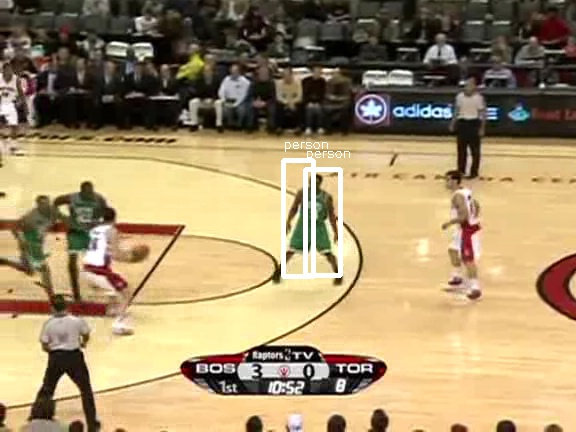person: (298, 183, 332, 264), (297, 183, 331, 264), (299, 183, 333, 264), (298, 182, 332, 263), (298, 184, 332, 265)
target_negative: (152, 299, 367, 378), (187, 265, 557, 301), (290, 313, 451, 373), (390, 294, 499, 301), (532, 61, 575, 77), (470, 301, 483, 308)
